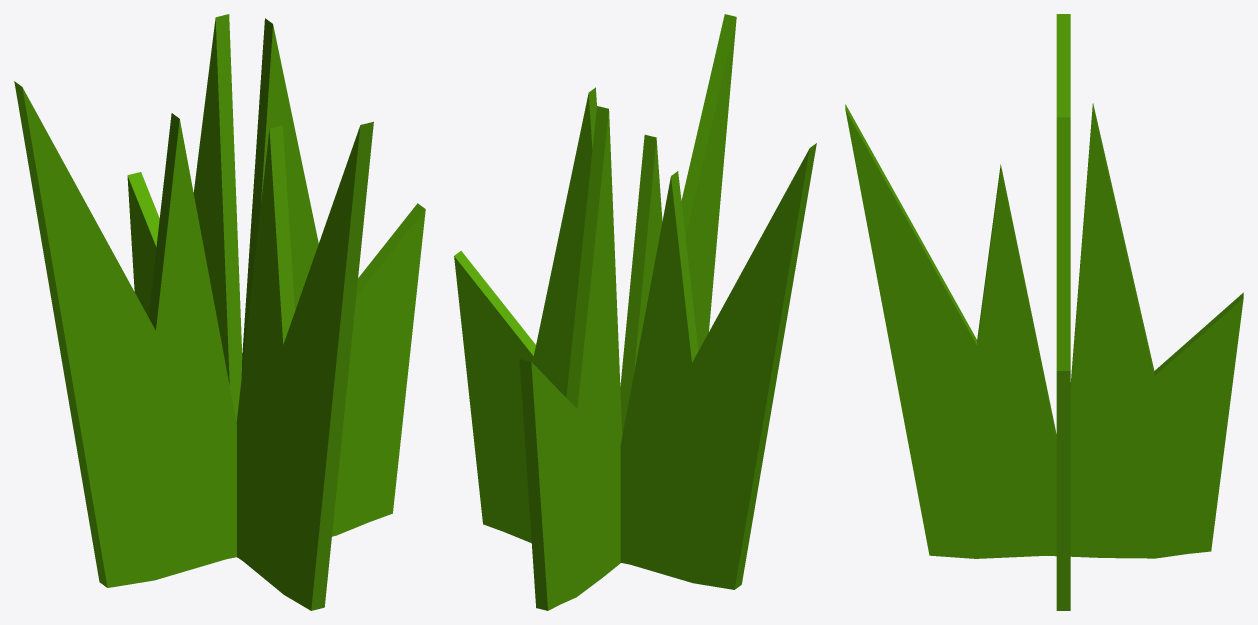
File: grass.fbx
3 renders of one model, left to right at view 1: azimuth 30°, elevation 25°; view 2: azimuth 150°, elevation 25°; view 3: azimuth 270°, elevation 25°, orthographic. The views are drawn at different scales.
Parts seen in each view (by area): view 1: grass; view 2: grass; view 3: grass.
Boxes of the visible parts, x1,y1,x2,y2 form: grass: (14, 14, 425, 610); grass: (454, 14, 816, 610); grass: (845, 14, 1243, 610).
Size of the model in its own units: 42.22 by 52.76 by 42.22.
